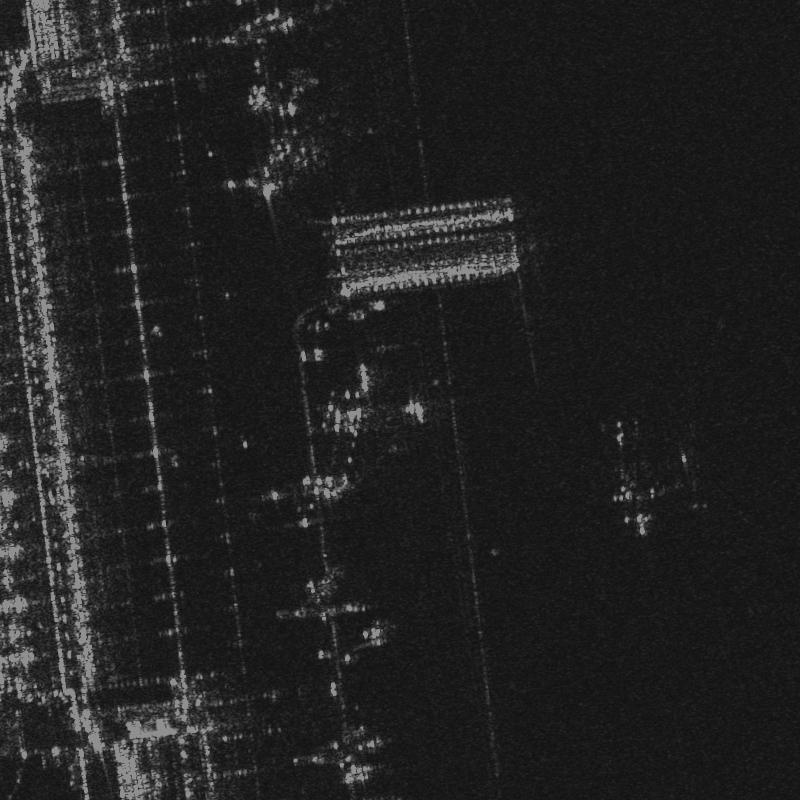Boeing787: (594, 440, 688, 544)
